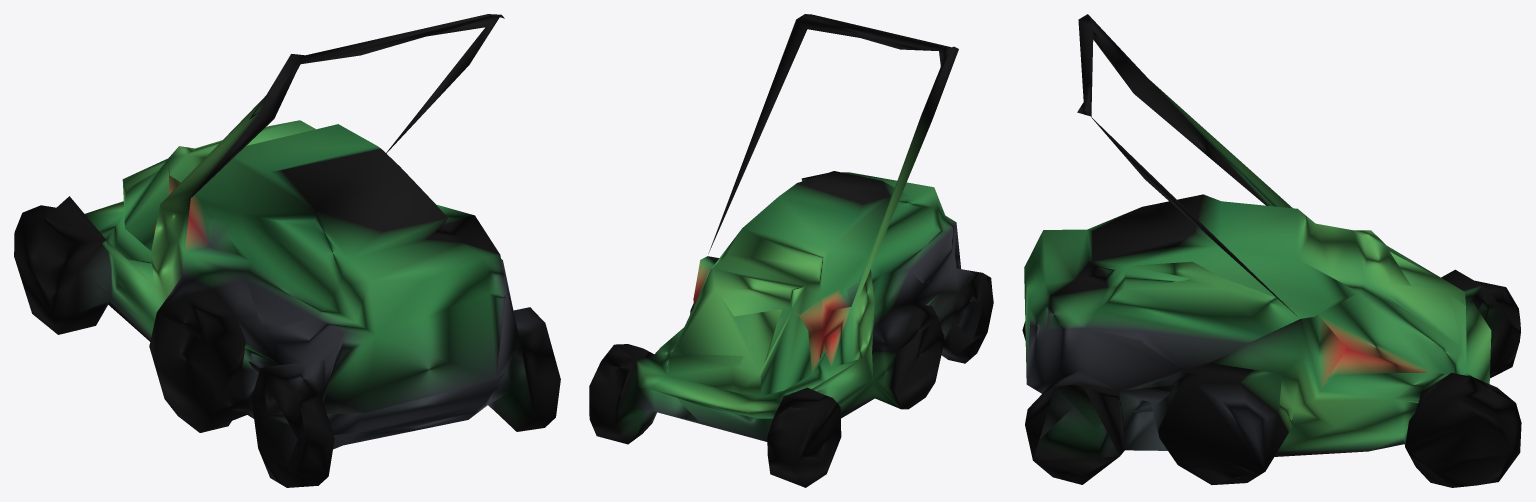
File: gen3d-lawn-mower-lod1.glb
3 renders of one model, left to right at view 1: azimuth 30°, elevation 25°; view 2: azimuth 150°, elevation 25°; view 3: azimuth 270°, elevation 25°, orthographic. The views are drawn at different scales.
Visible parts, largest first — view 1: part_0; view 2: part_0; view 3: part_0.
Boxes of the visible parts, bbox=[...] form: part_0: bbox=[14, 14, 560, 487]; part_0: bbox=[589, 14, 993, 487]; part_0: bbox=[1022, 14, 1521, 487].
Size of the model in its own units: 0.6978 by 0.9986 by 1.21.
